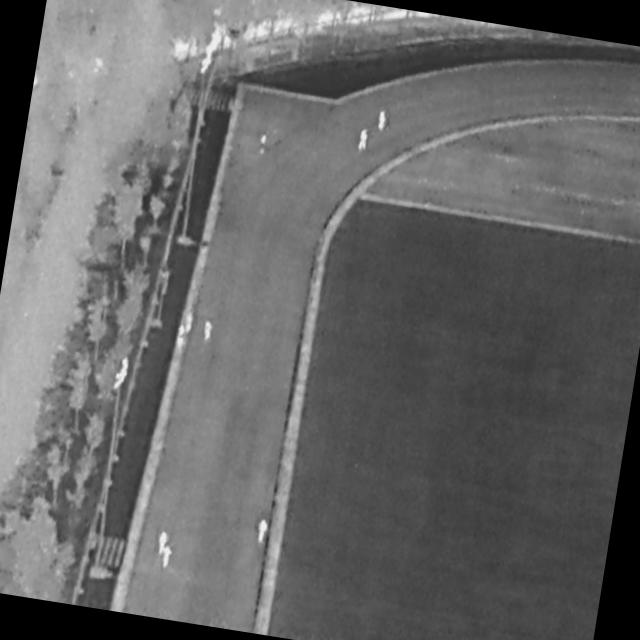person: (255, 519, 270, 546), (156, 532, 170, 558), (176, 326, 189, 353), (358, 129, 370, 154), (163, 546, 175, 570), (202, 321, 215, 343), (259, 132, 269, 157), (378, 112, 389, 134), (185, 313, 195, 336)
